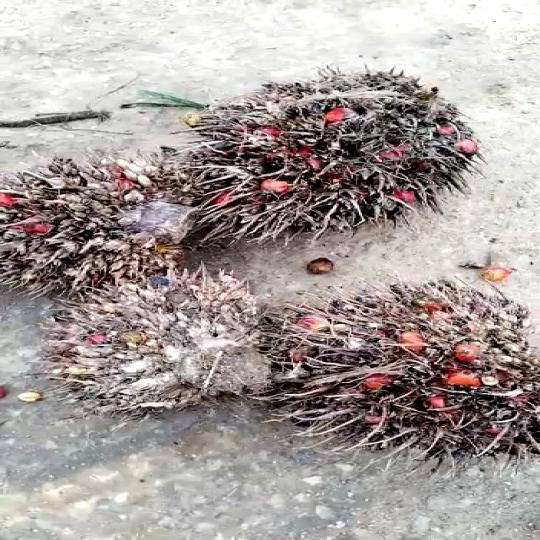terlalu masak: (153, 65, 472, 248), (273, 297, 540, 453), (24, 264, 297, 414)
